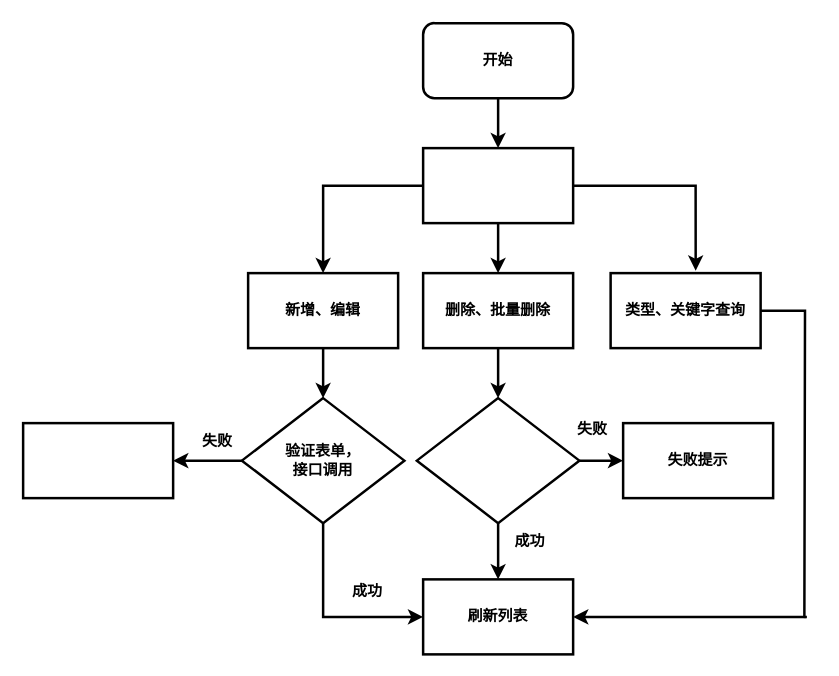
Image size: 839x676. Some labels were removed from this diagram. The centre of each missing label's shape, as x and y in pixels:
删除操作: (497,460)
提示信息: (97,460)
页面管理: (497,185)
